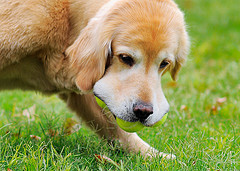tennis ball: (115, 114, 146, 134), (93, 90, 112, 113), (145, 112, 170, 128)
